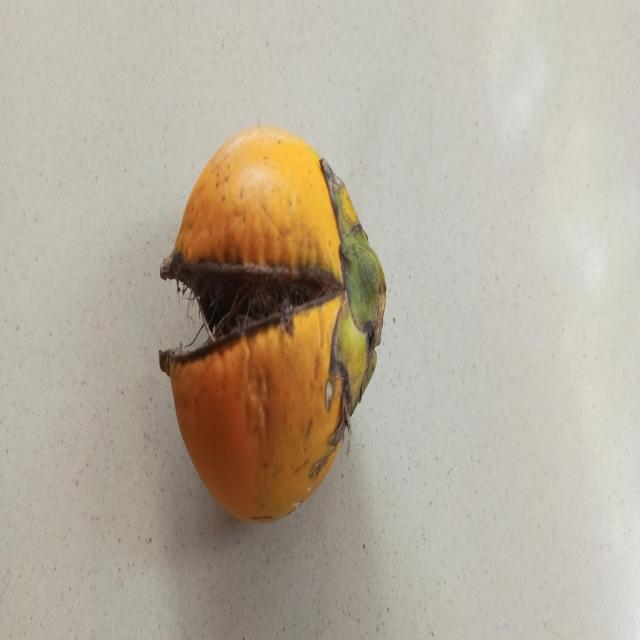damaged: (159, 126, 386, 521)
